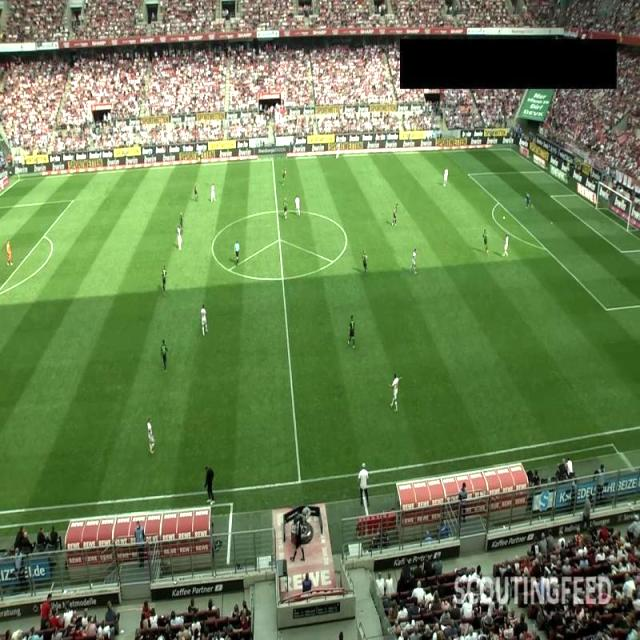bigarea_bottom_inner: (602, 302, 612, 314)
bigarea_top_inner: (68, 196, 78, 207), (464, 170, 473, 179)
bigarea_top_outter: (538, 166, 550, 178)
bottom_arc_area_intersection: (540, 244, 551, 255)
corner: (505, 144, 516, 155), (15, 176, 24, 184)
halfcircle_bottom: (278, 274, 288, 284)
halfcircle_top: (272, 206, 282, 217)
midline_bottom_intersection: (292, 474, 307, 489)
midline_top_intersection: (267, 154, 278, 164)
smallarea_bottom_inner: (615, 246, 626, 256)
smallarea_top_inner: (546, 190, 556, 202)
smallarea_top_outter: (572, 190, 583, 201)
top_arc_area_intersection: (37, 231, 49, 243), (494, 199, 504, 210)
